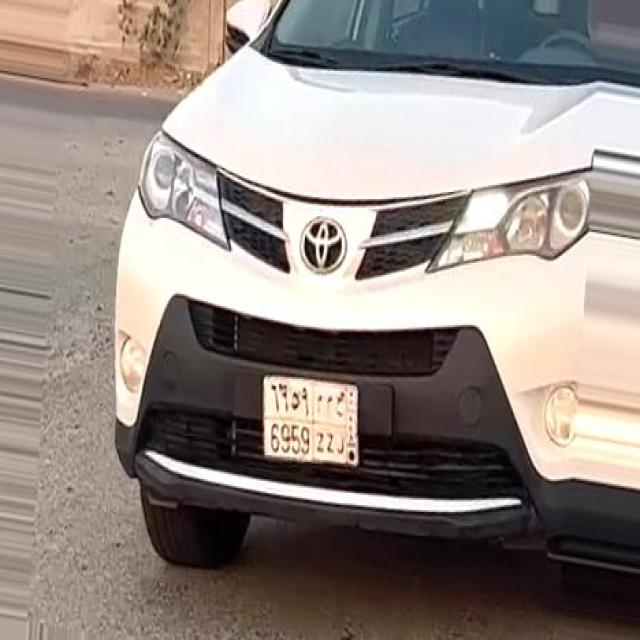Car-plate: (252, 362, 366, 480)
